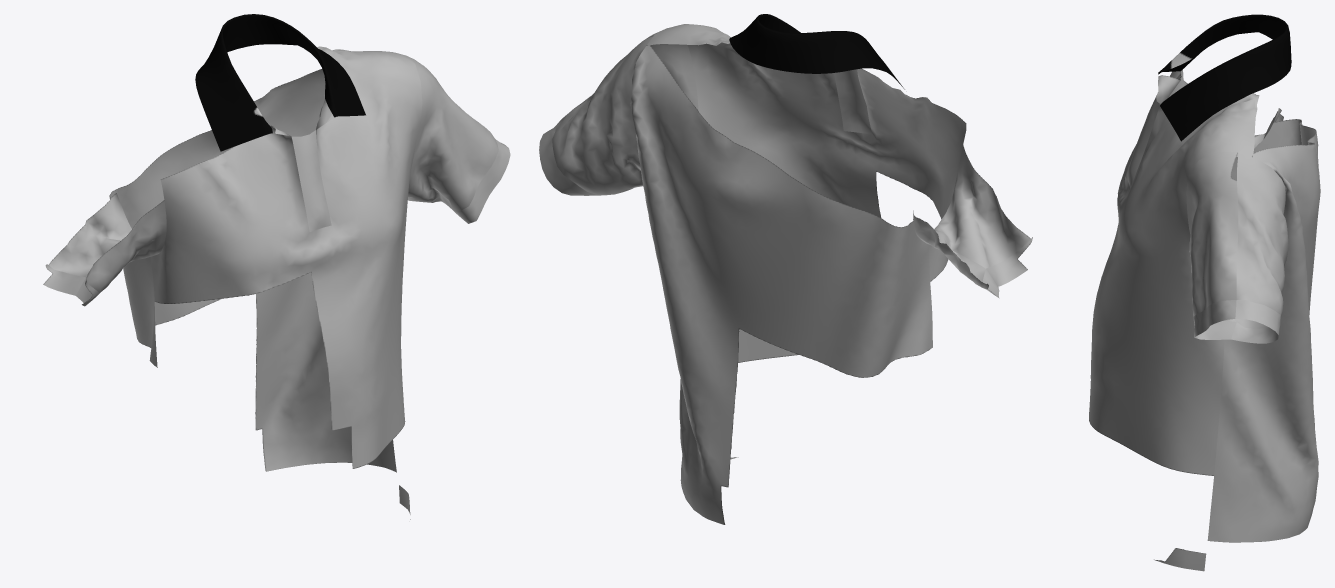
3 views of the same model, side by side, from view 1: azimuth 30°, elevation 25°; view 2: azimuth 150°, elevation 25°; view 3: azimuth 270°, elevation 25° (orthographic). The views are drawn at different scales.
Parts seen in each view (by area): view 1: polo3-30; view 2: polo3-30; view 3: polo3-30.
Part boxes in pixels (x1,y1,x2,y2): polo3-30: [43, 14, 510, 519]; polo3-30: [539, 14, 1032, 524]; polo3-30: [1089, 14, 1320, 571].
Size of the model in its own units: 0.7524 by 0.7453 by 0.3202.
